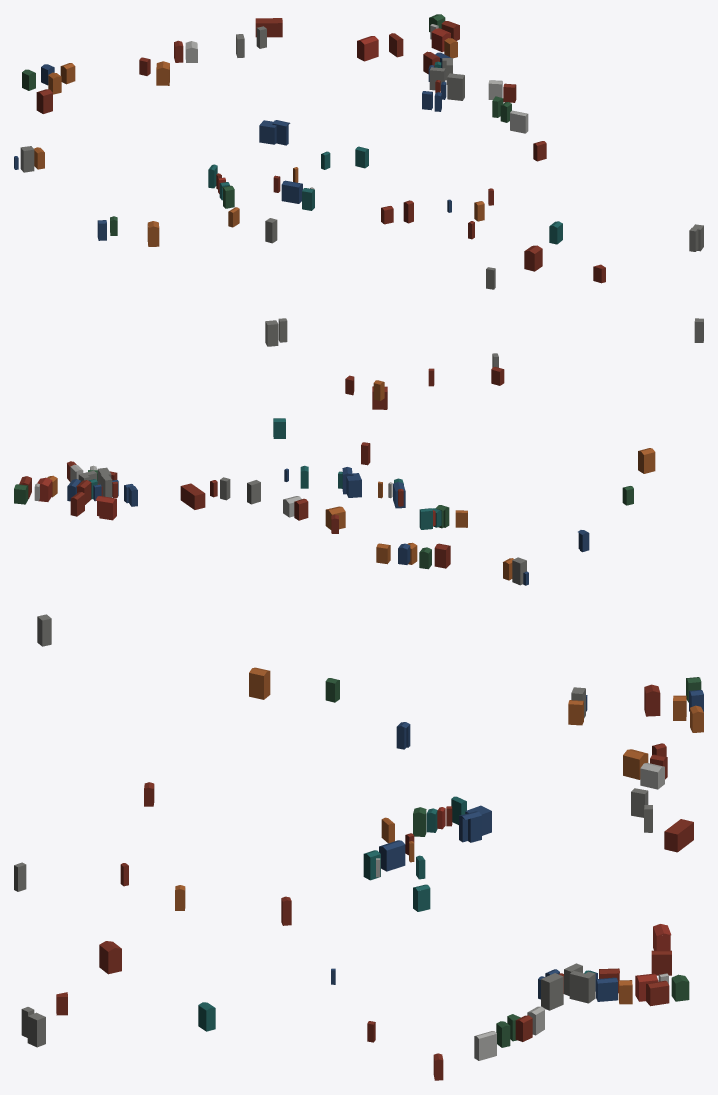
The model's file is near-16-54719-29745.f13d30b4.glb.
3 views of the same model, one above another, from view 1: azimuth 30°, elevation 25°; view 2: azimuth 150°, elevation 25°; view 3: azimuth 270°, elevation 25° (orthographic). The views are drawn at different scales.
Size of the model in its own units: 593 by 192 by 580.
